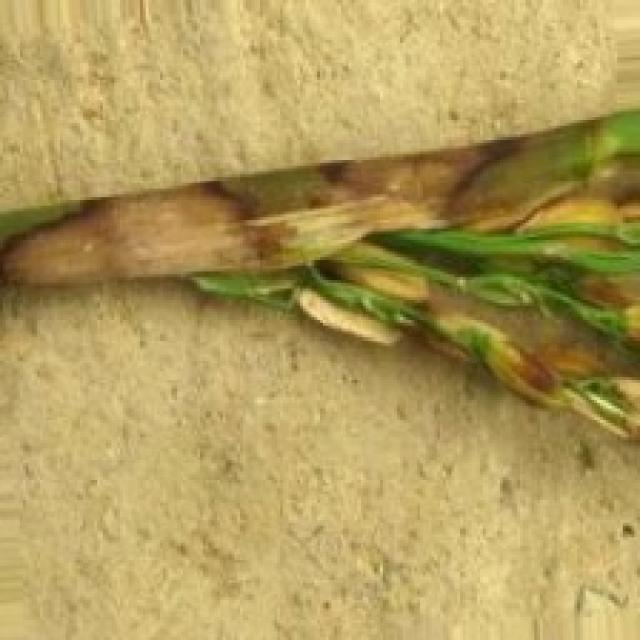Bacterial_Blight: (0, 174, 289, 303), (303, 142, 511, 228)
